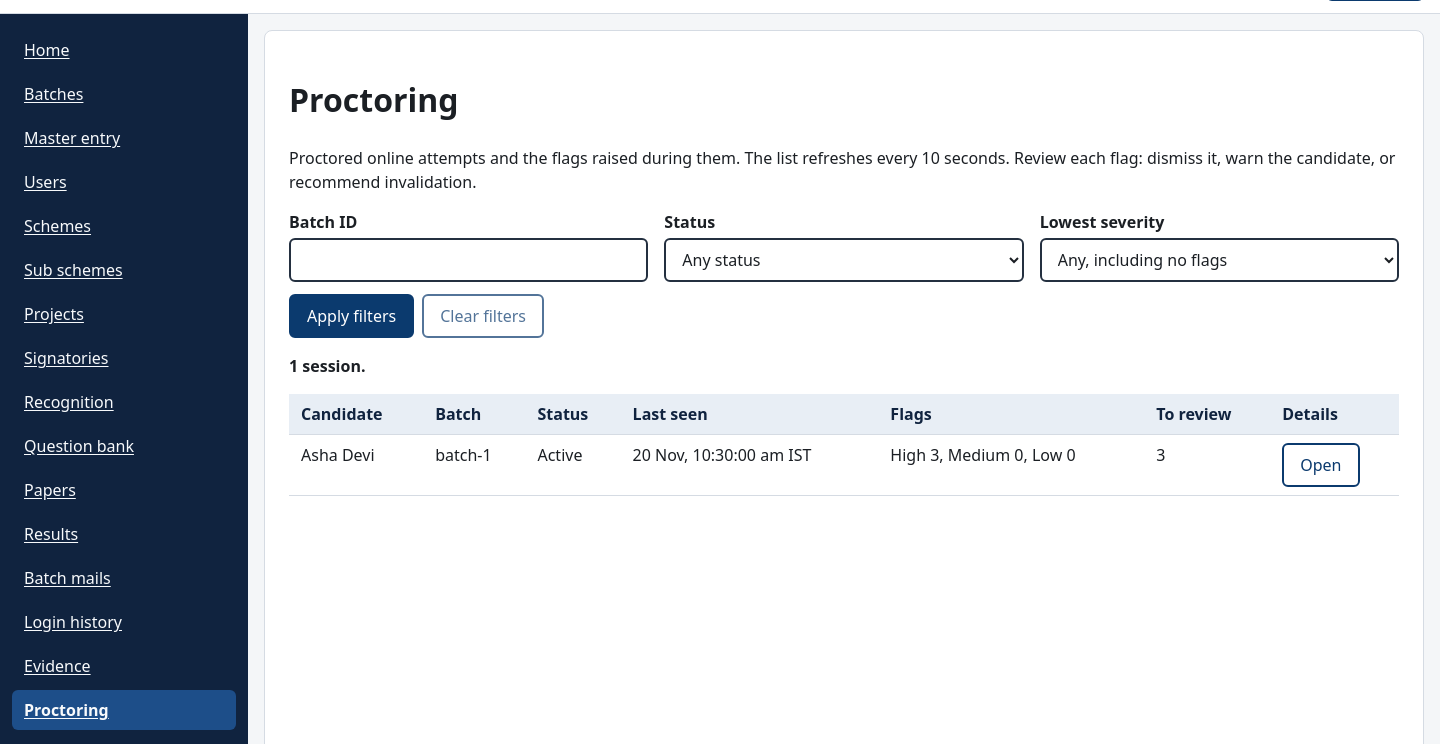
shows no Unlock button when the exam is not paused
What coordinates should you click on to do the following:
click the button with aria-label "Open session of Asha Devi"
I would click on:
 (1321, 465)
Its box is [1282,443,1360,487].
(page scrolled)
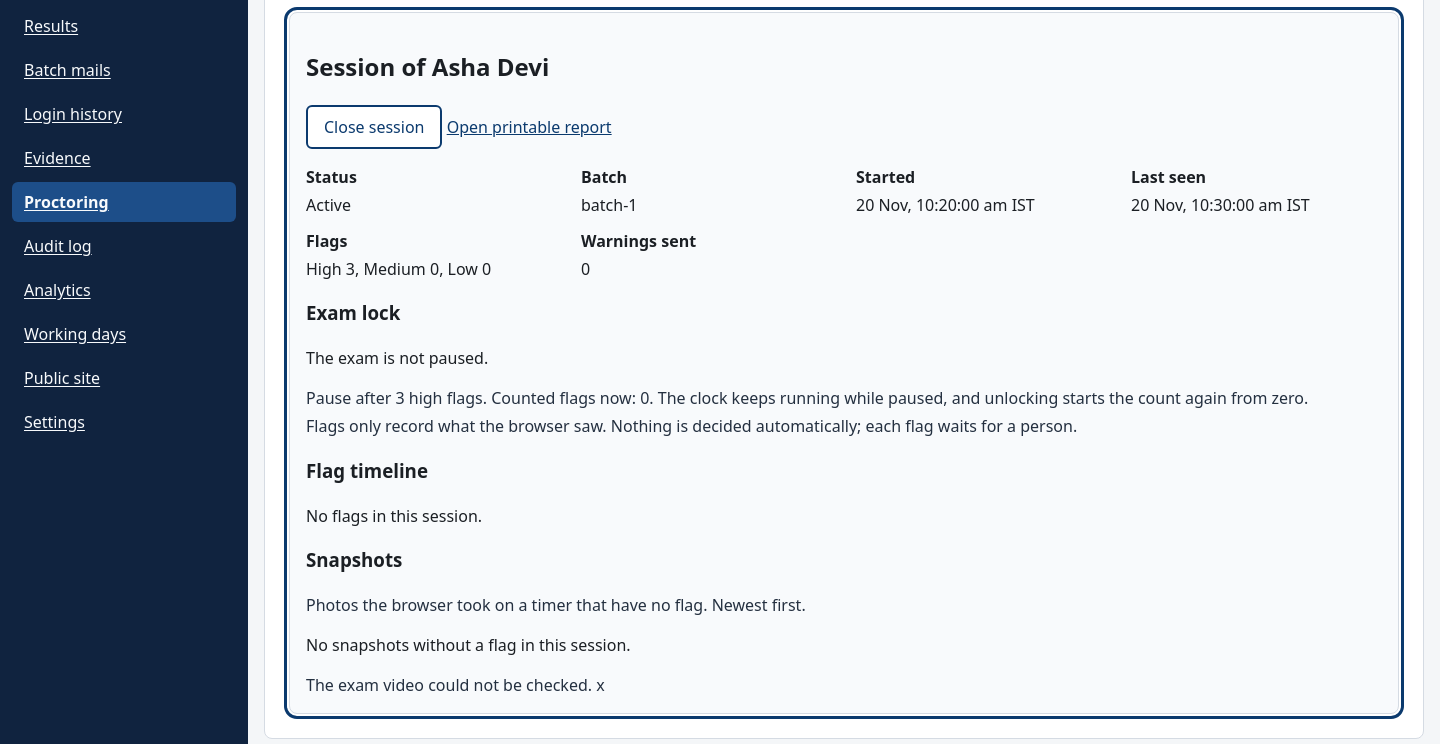
Result: the text "The exam is not paused." is shown at [306,347,488,369]
